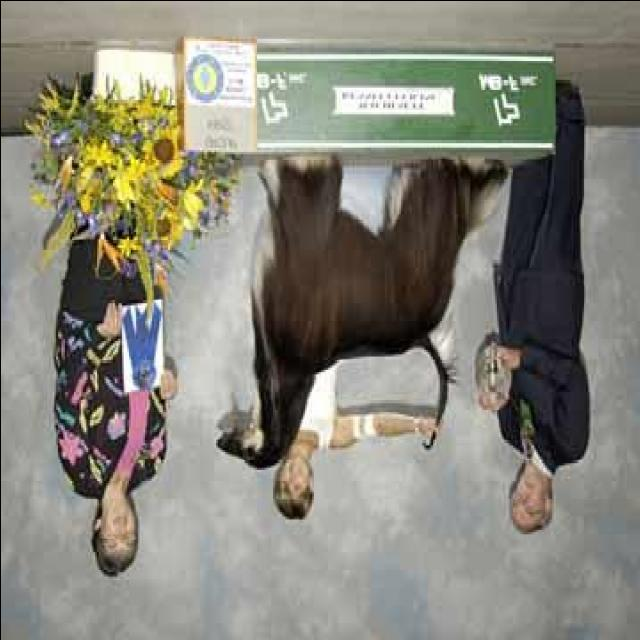afghan_hound: (212, 149, 514, 473)
